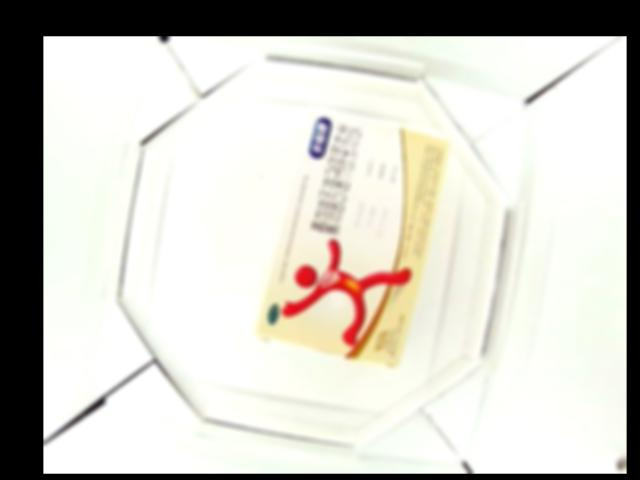Medicine: (259, 104, 452, 366)
